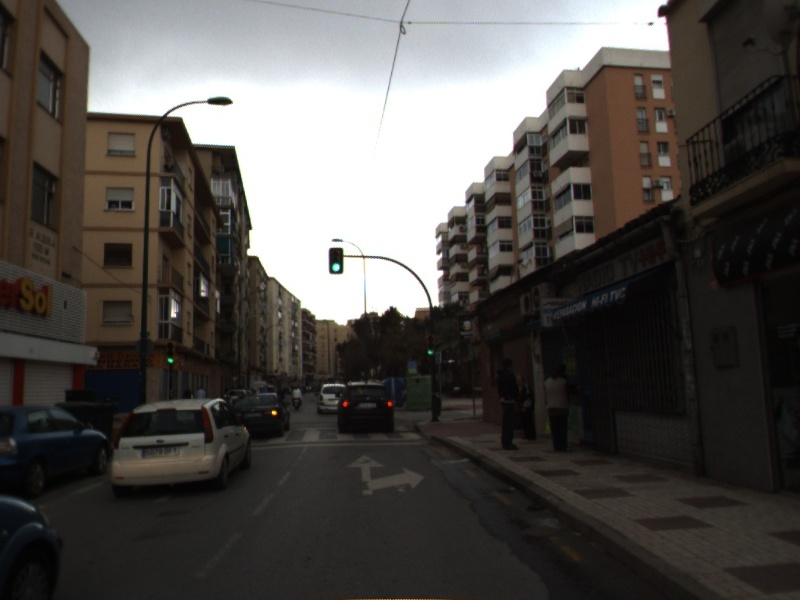STRAIGHT_RIGHT: (344, 453, 427, 497)
